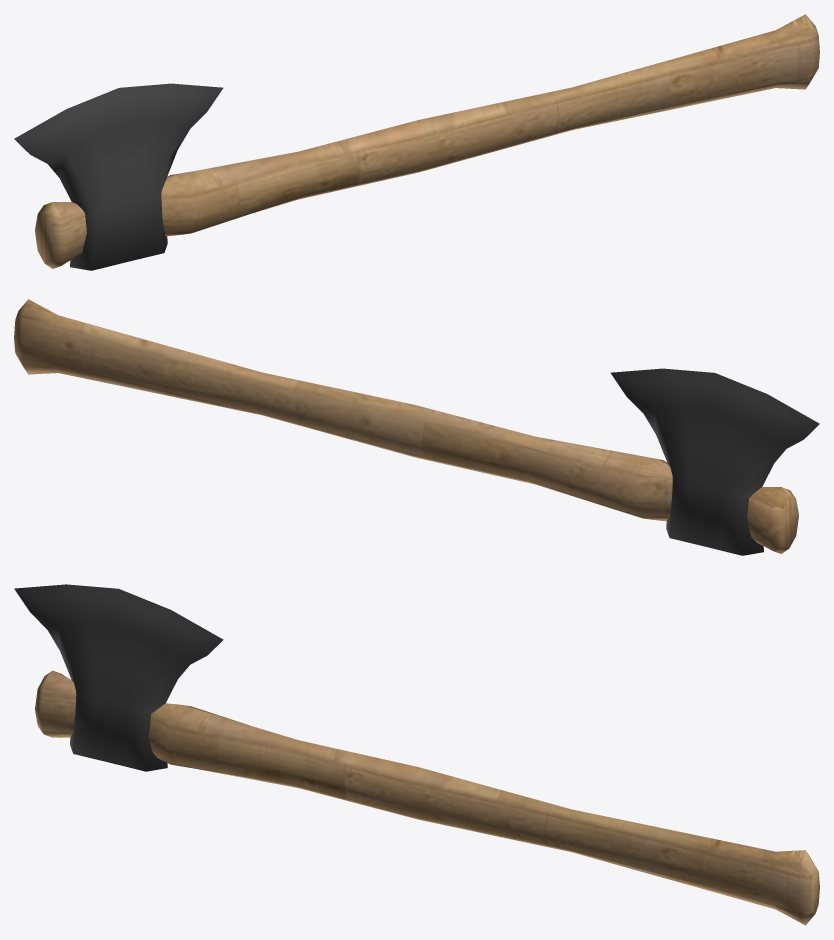
The model's file is axe.gltf.
3 views of the same model, one above another, from view 1: azimuth 30°, elevation 25°; view 2: azimuth 150°, elevation 25°; view 3: azimuth 330°, elevation 25° (orthographic).
Visible parts, largest first — view 1: handle, head; view 2: handle, head; view 3: handle, head.
Part boxes in pixels (x1,y1,x2,y2): handle: (35,14,819,268); head: (14,83,223,270); handle: (14,299,798,553); head: (610,368,819,555); handle: (35,670,819,925); head: (14,584,223,771).
Bounding box in the file's own units: 22.01 × 4.6 × 1.38.
Materials: 2 (1 with a texture image).
